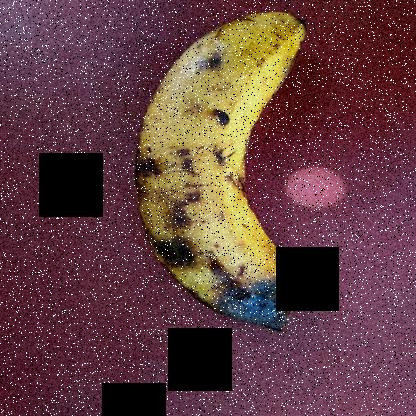overripe: (101, 1, 352, 259)
rotten: (124, 182, 322, 351)
